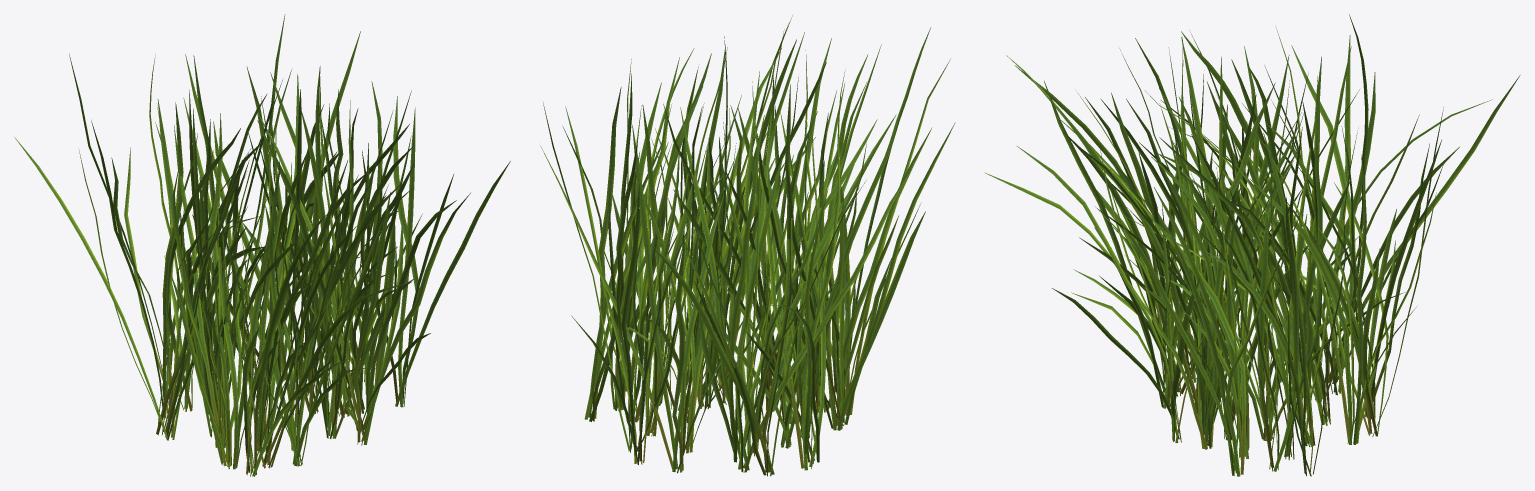
File: mata_2.glb
3 views of the same model, side by side, from view 1: azimuth 30°, elevation 25°; view 2: azimuth 150°, elevation 25°; view 3: azimuth 270°, elevation 25° (orthographic). The views are drawn at different scales.
Visible parts, largest first — view 1: Wild Grass Patch 3; view 2: Wild Grass Patch 3; view 3: Wild Grass Patch 3.
Part boxes in pixels (<box>): Wild Grass Patch 3: <box>14,14,510,476</box>; Wild Grass Patch 3: <box>540,15,955,476</box>; Wild Grass Patch 3: <box>984,14,1520,476</box>.
Bounding box in the file's own units: 0.8712 × 0.9434 × 1.22.
2 materials, 2 textured.
